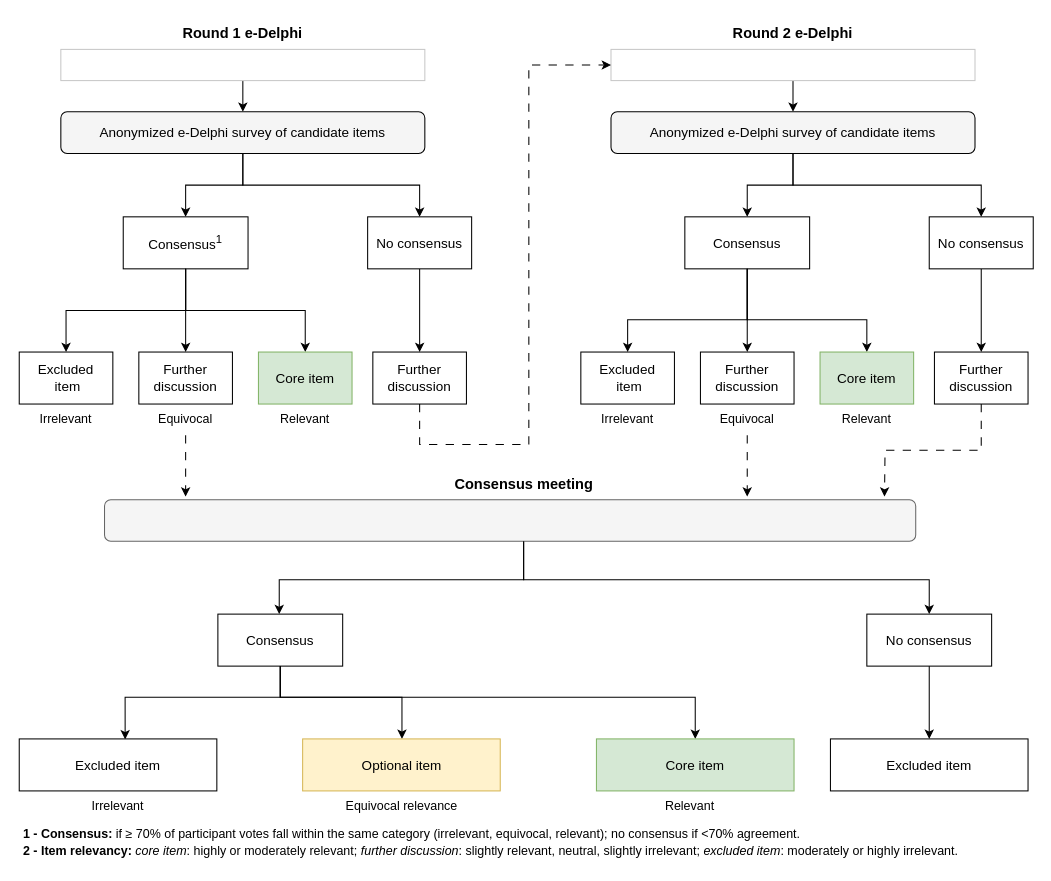
Some shapes in this 1051 by 881 pixel diagram are drawn without their labels. Here are the shapes that lost their labels. From the top down, the box of each, then its label:
(60, 48, 425, 81): Review of initial candidate items
(610, 48, 975, 81): Review of new and non-consensus items
(103, 499, 916, 541): In-person or hybrid with discussion and Delphi survey
